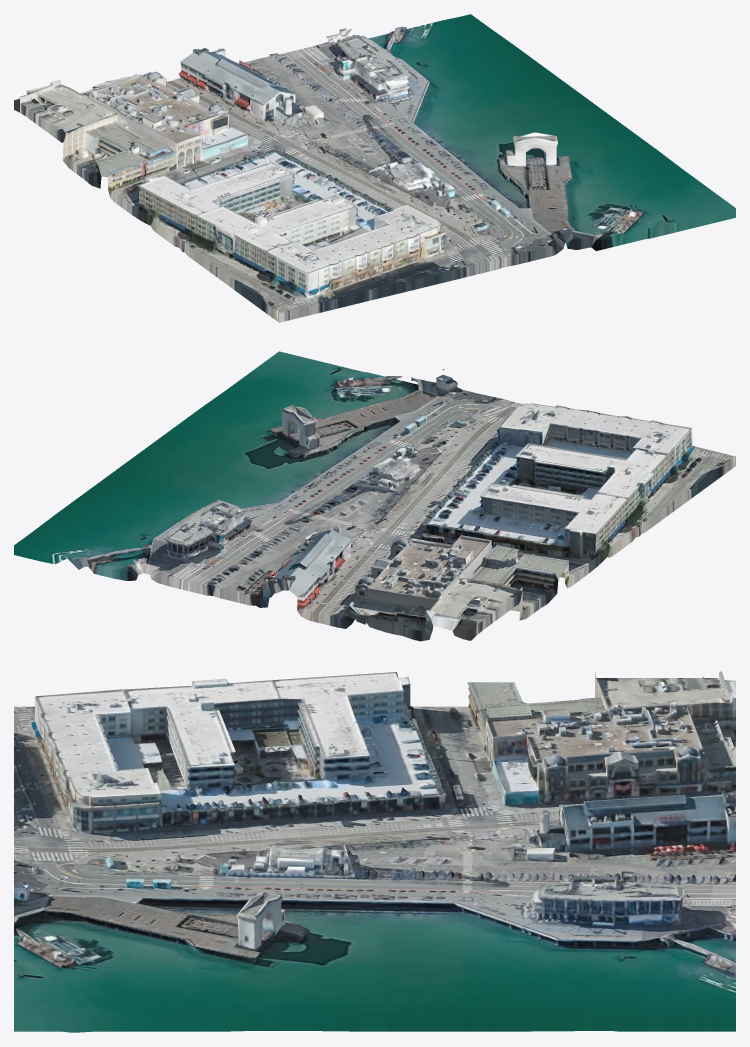
File: z17-20966-50646-h0-yup-uvflip-v3-world.glb
3 views of the same model, one above another, from view 1: azimuth 30°, elevation 25°; view 2: azimuth 150°, elevation 25°; view 3: azimuth 270°, elevation 25° (orthographic). The views are drawn at different scales.
Bounding box in the file's own units: 241 × 24.32 × 243.
Materials: 1 (1 with a texture image).
